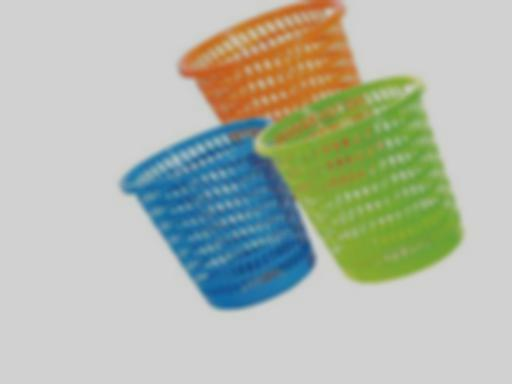Bote de Basura: (172, 0, 386, 202), (260, 91, 464, 282), (129, 104, 315, 308)
